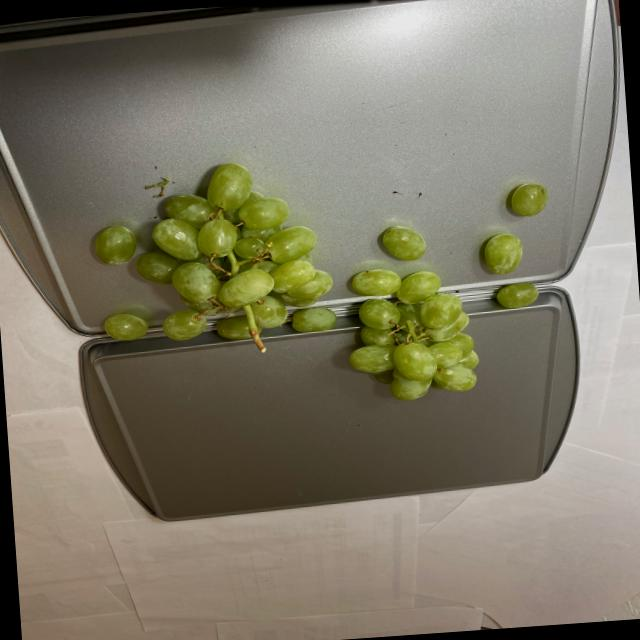grapes: (82, 133, 558, 421)
